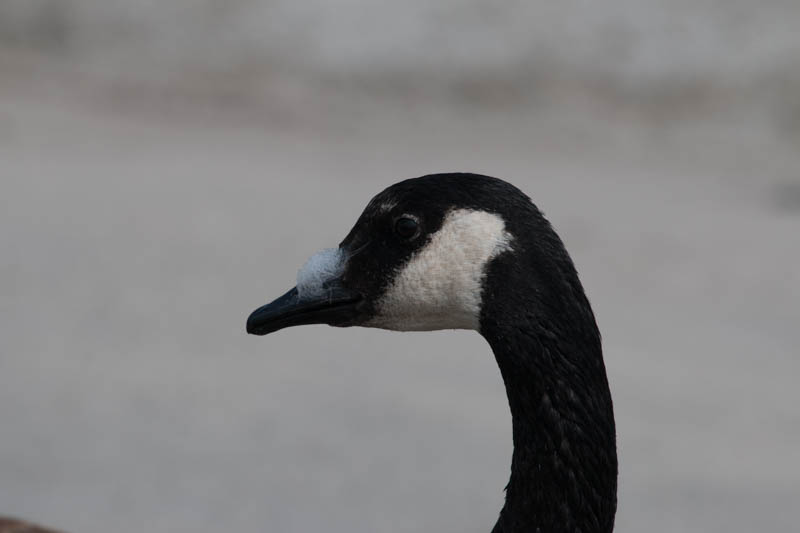goose-head: (247, 170, 587, 335)
